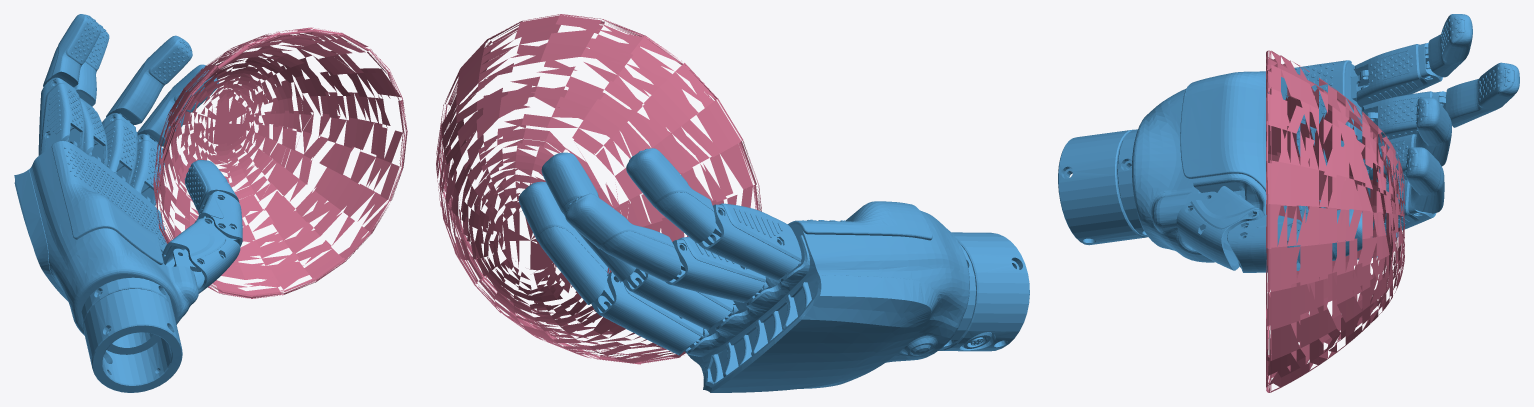
3 views of the same model, side by side, from view 1: azimuth 30°, elevation 25°; view 2: azimuth 150°, elevation 25°; view 3: azimuth 270°, elevation 25° (orthographic). The views are drawn at different scales.
Visible parts, largest first — view 1: 7; view 2: 7; view 3: 7.
Part boxes in pixels (x1,y1,x2,y2): 7: (14, 14, 407, 392); 7: (436, 14, 1029, 392); 7: (1058, 14, 1519, 392).
Size of the model in its own units: 0.2426 by 0.1584 by 0.2123.
